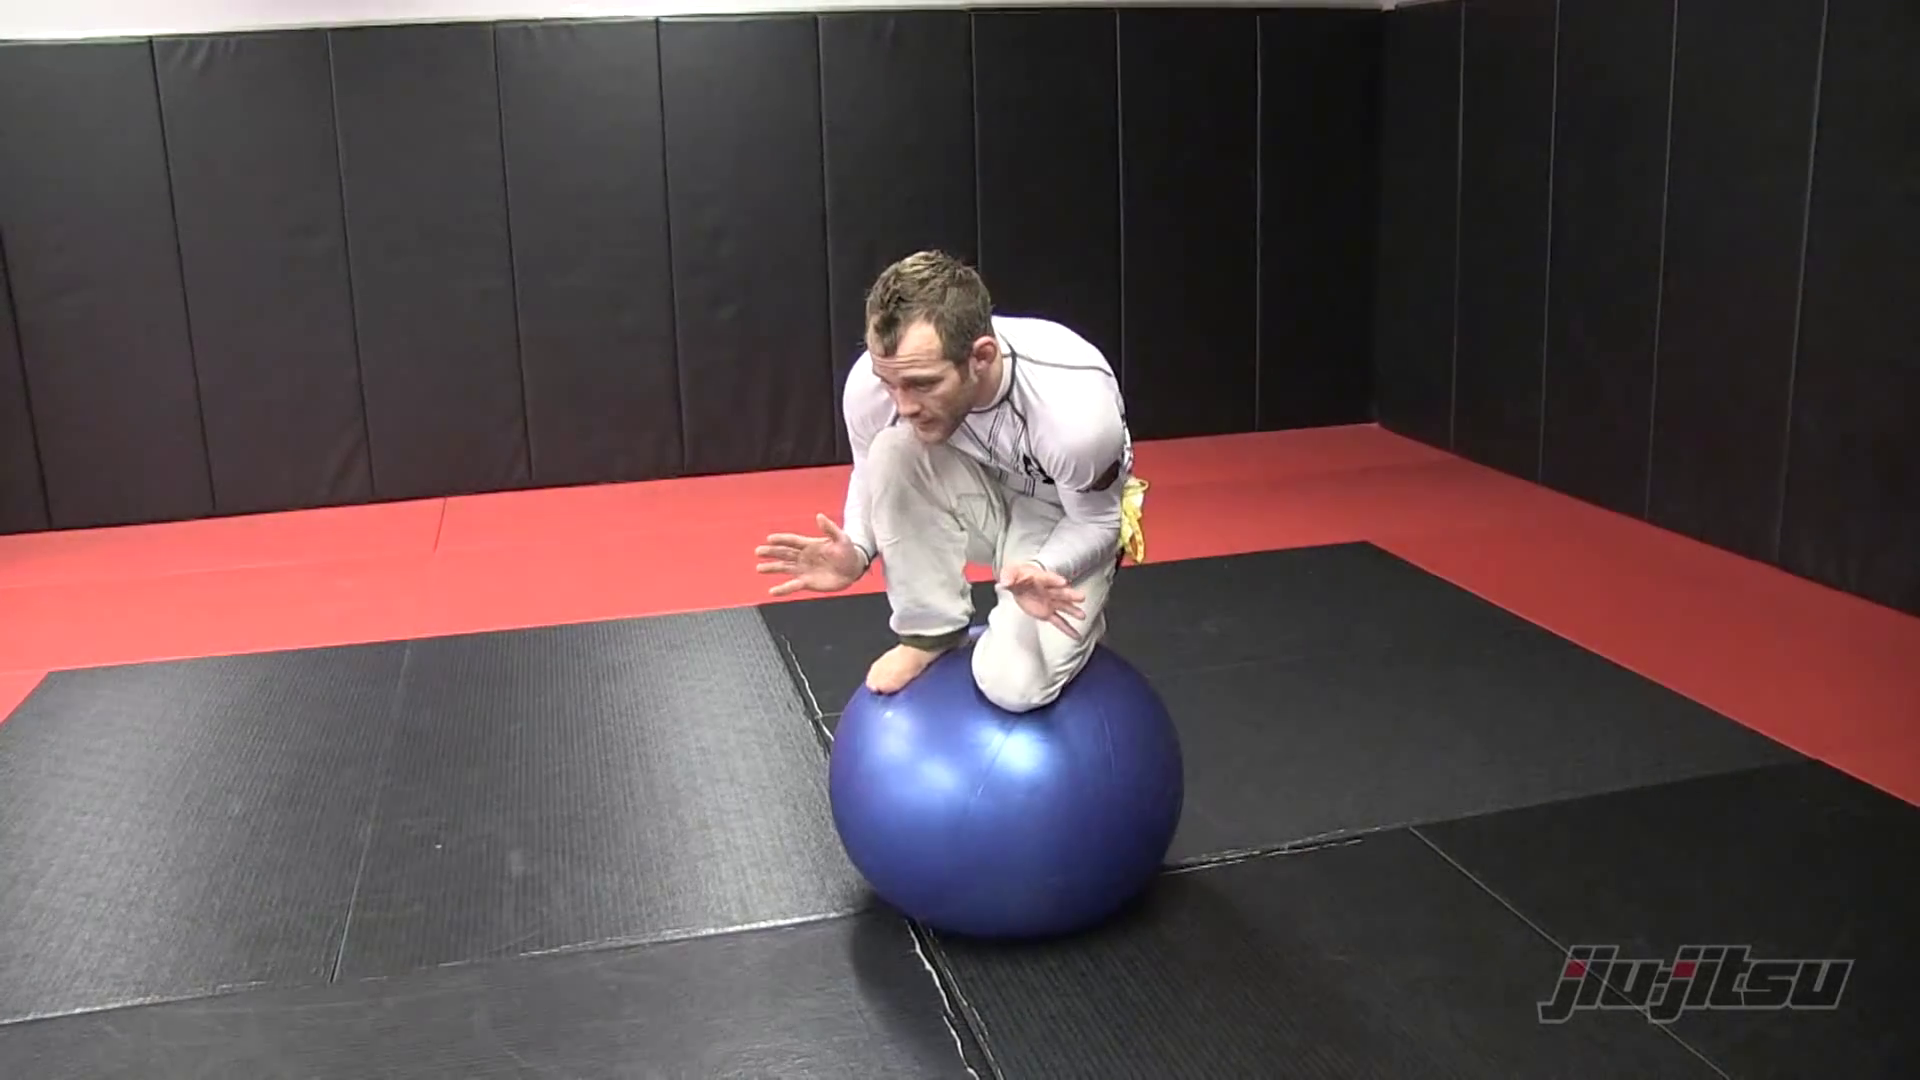yogaball: (816, 618, 1195, 965)
